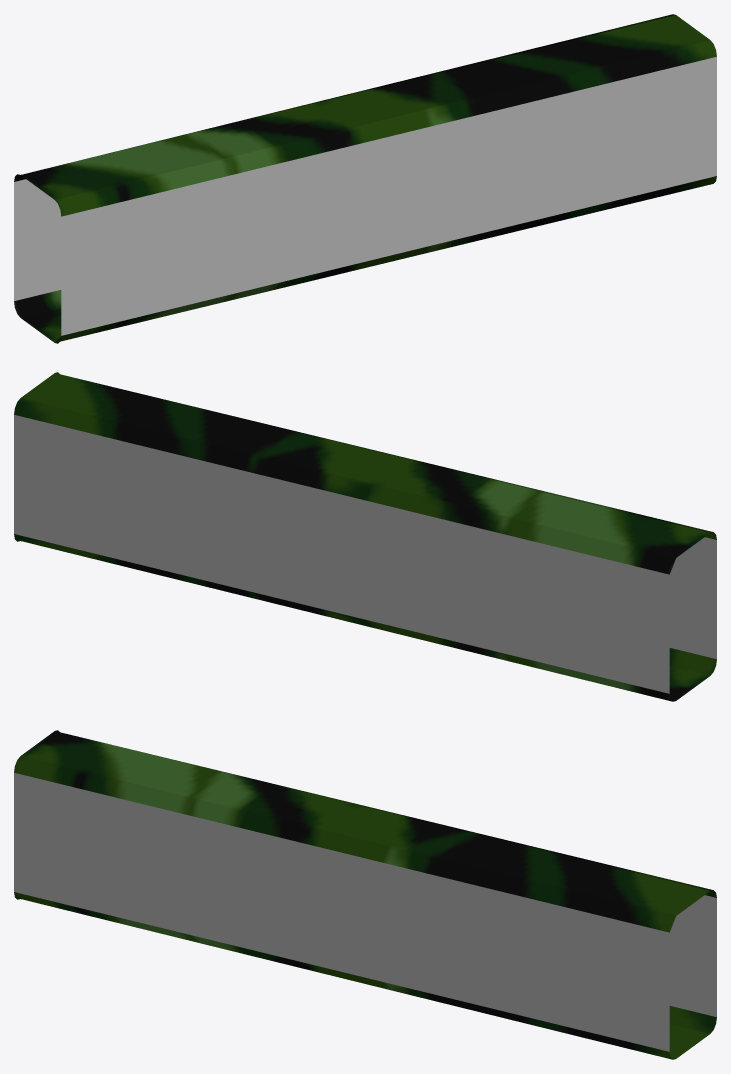
File: LevelEdgeUD.fbx
The picture shows the model from 3 angles, top to bottom: view 1: azimuth 30°, elevation 25°; view 2: azimuth 150°, elevation 25°; view 3: azimuth 330°, elevation 25°; orthographic projection.
Visible parts, largest first — view 1: Bottom; view 2: Bottom; view 3: Bottom.
Part boxes in pixels (bbox=[...]): Bottom: bbox=[14, 14, 716, 343]; Bottom: bbox=[14, 372, 716, 701]; Bottom: bbox=[14, 730, 716, 1059].
Size of the model in its own units: 2400 by 500 by 300.
